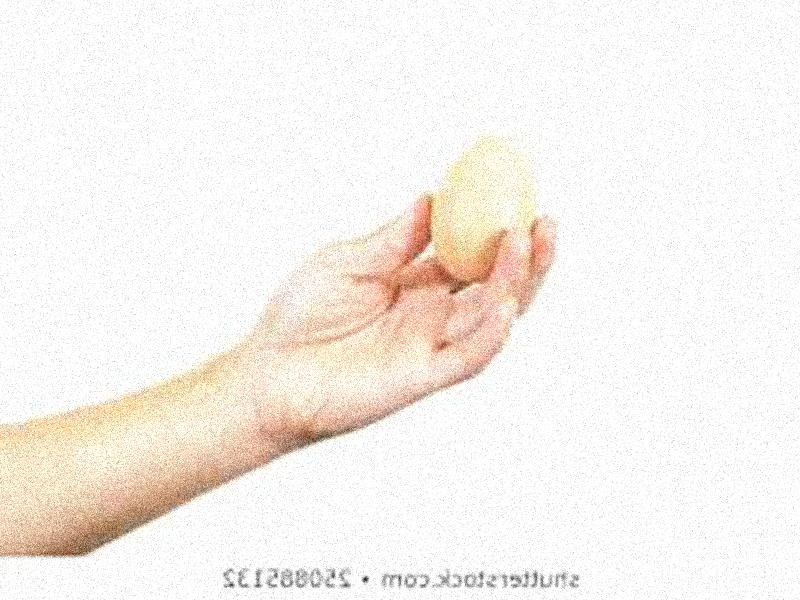Eggs: (431, 133, 536, 287)
